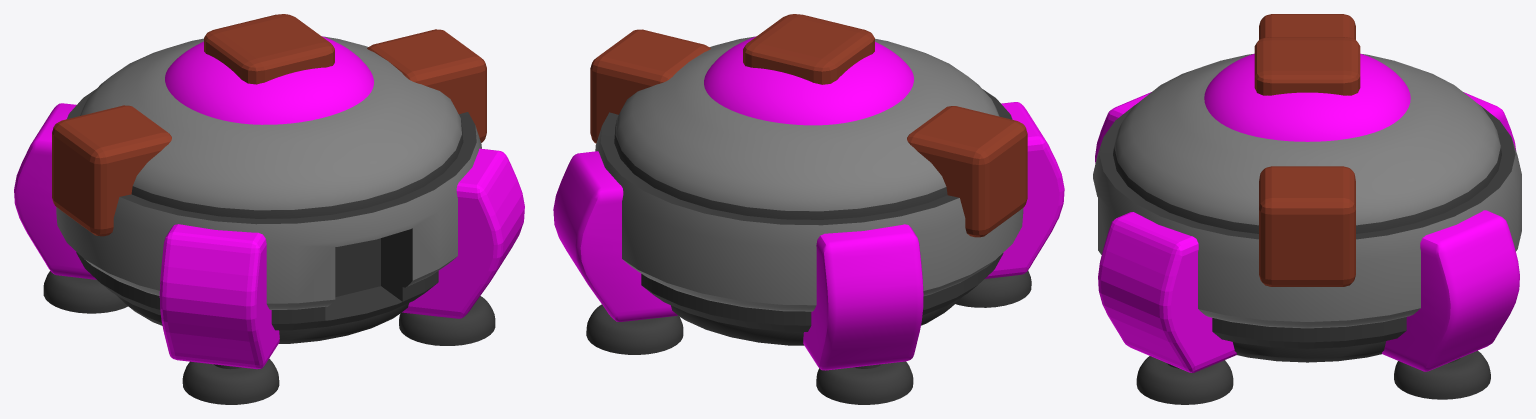
Rendered from commandCenter.fbx.
3 renders of one model, left to right at view 1: azimuth 30°, elevation 25°; view 2: azimuth 150°, elevation 25°; view 3: azimuth 270°, elevation 25°, orthographic.
Parts seen in each view (by area): view 1: Circle, Cube.003, Cube.004, Cube, Cube.005, Cube.001, Cube.007, Cylinder, Cylinder.001, Cylinder.003; view 2: Circle, Cube.003, Cube.007, Cube, Cube.006, Cube.001, Cube.004, Cylinder.003, Cylinder.002, Cylinder; view 3: Circle, Cube.003, Cube.005, Cube.006, Cube, Cube.001, Cylinder.001, Cylinder.002, Cube.004, Cube.007.
Boxes of the visible parts, x1=… form: Circle: x1=56, y1=36, x2=481, y2=343; Cube.003: x1=52, y1=29, x2=486, y2=236; Cube.004: x1=159, y1=224, x2=279, y2=369; Cube: x1=165, y1=36, x2=373, y2=124; Cube.005: x1=402, y1=148, x2=524, y2=318; Cube.001: x1=204, y1=14, x2=334, y2=84; Cube.007: x1=14, y1=103, x2=96, y2=279; Cylinder: x1=182, y1=358, x2=279, y2=404; Cylinder.001: x1=399, y1=296, x2=495, y2=345; Cylinder.003: x1=43, y1=271, x2=127, y2=313; Circle: x1=595, y1=36, x2=1023, y2=345; Cube.003: x1=590, y1=29, x2=1027, y2=237; Cube.007: x1=803, y1=224, x2=923, y2=370; Cube: x1=704, y1=36, x2=913, y2=125; Cube.006: x1=553, y1=151, x2=677, y2=321; Cube.001: x1=743, y1=14, x2=874, y2=84; Cube.004: x1=985, y1=102, x2=1064, y2=278; Cylinder.003: x1=816, y1=361, x2=913, y2=404; Cylinder.002: x1=586, y1=304, x2=683, y2=354; Cylinder: x1=955, y1=270, x2=1031, y2=307; Circle: x1=1093, y1=54, x2=1521, y2=362; Cube.003: x1=1259, y1=14, x2=1355, y2=286; Cube.005: x1=1098, y1=212, x2=1236, y2=372; Cube.006: x1=1382, y1=210, x2=1519, y2=371; Cube: x1=1204, y1=53, x2=1410, y2=141; Cube.001: x1=1254, y1=37, x2=1360, y2=95; Cylinder.001: x1=1136, y1=356, x2=1233, y2=404; Cylinder.002: x1=1394, y1=350, x2=1490, y2=399; Cube.004: x1=1095, y1=92, x2=1151, y2=163; Cube.007: x1=1463, y1=92, x2=1516, y2=150.
Size of the model in its own units: 251 by 165 by 235.
